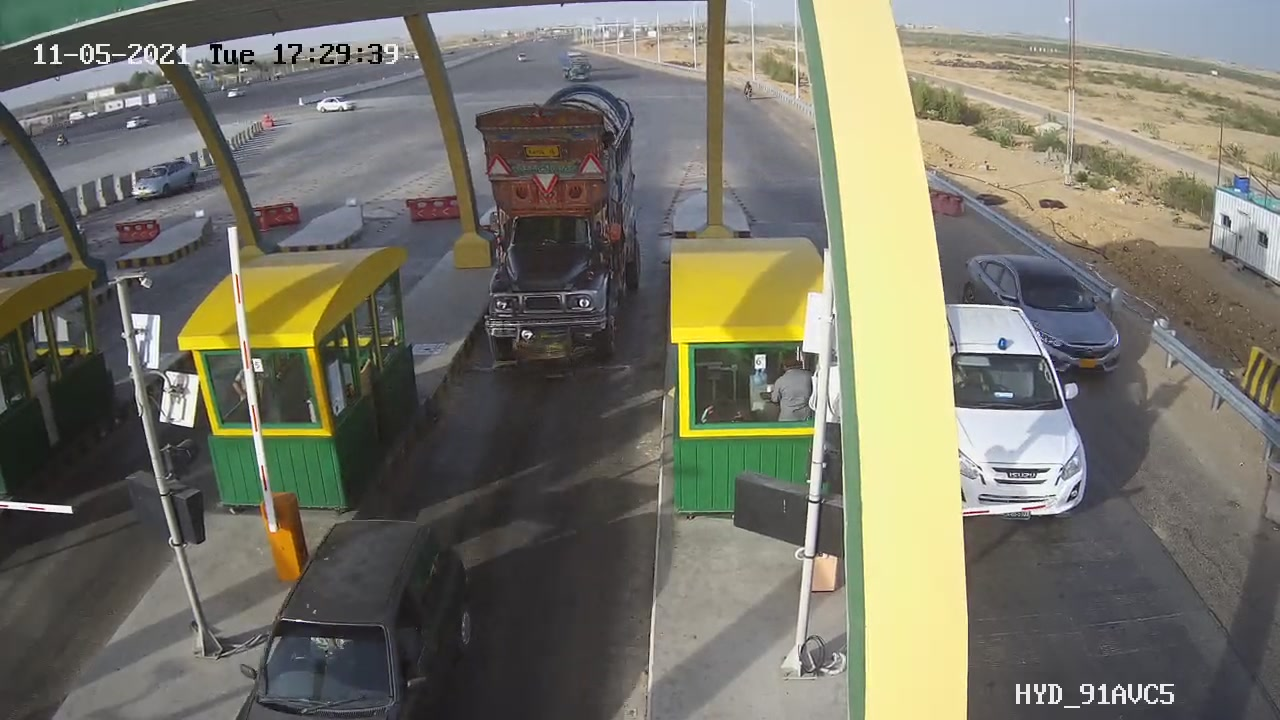F5: (450, 74, 661, 374)
